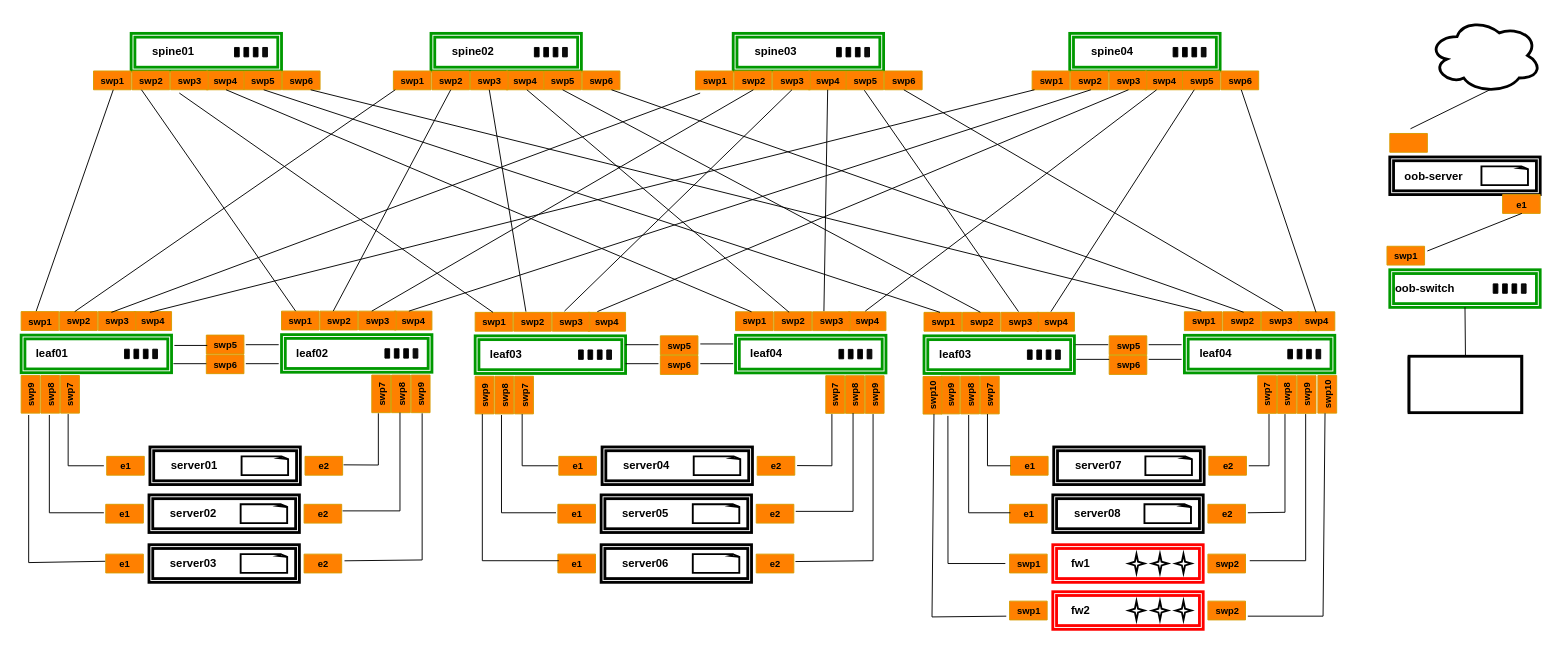
This 1559x647 diagram has some shape labels left out. The shapes that lost their labels are listed below. From the top down, each one's centre as x and y in pixels, then its label:
(x=1408, y=142): e0
(x=1465, y=384): to e0 on All devices
